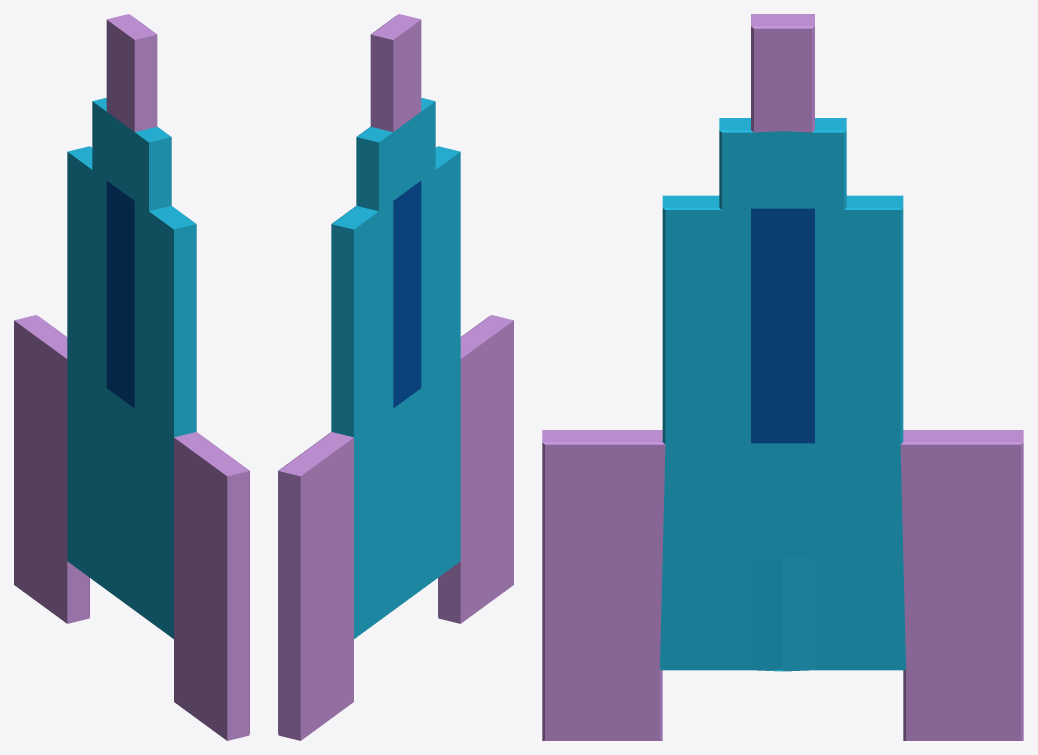
The model's file is AlbaSanchez_SpoaceInvaders.fbx.
The picture shows the model from 3 angles, left to right: view 1: azimuth 30°, elevation 25°; view 2: azimuth 150°, elevation 25°; view 3: azimuth 270°, elevation 25°; orthographic projection. The views are drawn at different scales.
Parts seen in each view (by area): view 1: nave buena; view 2: nave buena; view 3: nave buena.
Part boxes in pixels (box(x1,y1,x2,y2)): nave buena: box(14, 14, 249, 740); nave buena: box(278, 14, 513, 740); nave buena: box(542, 14, 1023, 740).
Bounding box in the file's own units: 6.05 × 145 × 88.49.
